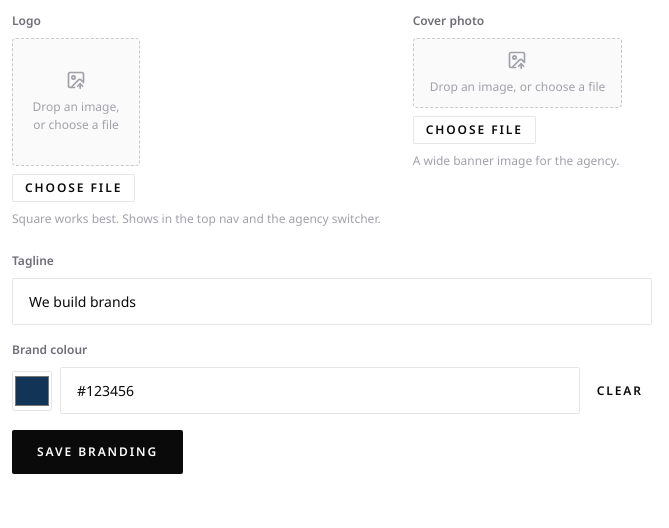
AgencyBrandingForm › shows a server error
Click the button "Save branding" at (98, 452), box [12, 430, 183, 474]
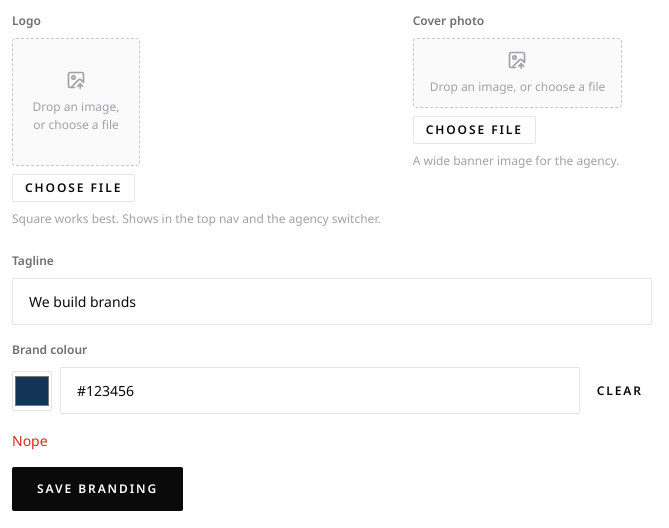
Now the text "Nope" is shown, box [12, 431, 48, 450]
